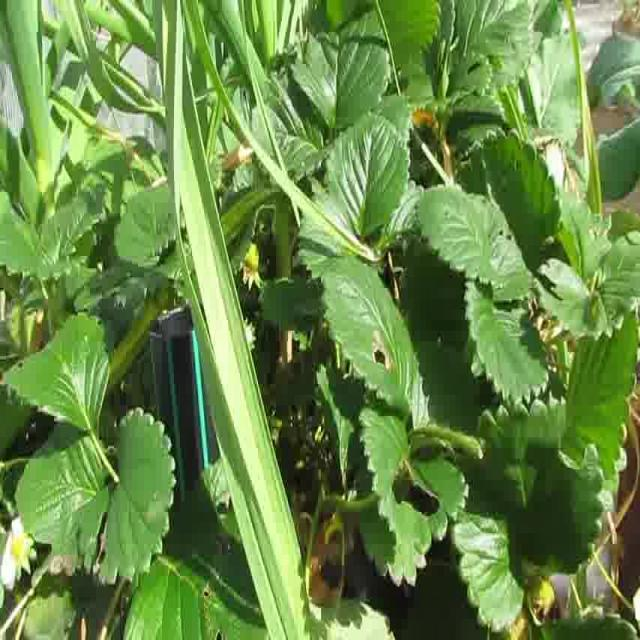Fruta sana: (501, 607, 532, 640), (528, 576, 556, 612), (243, 242, 260, 272), (12, 534, 26, 560)
